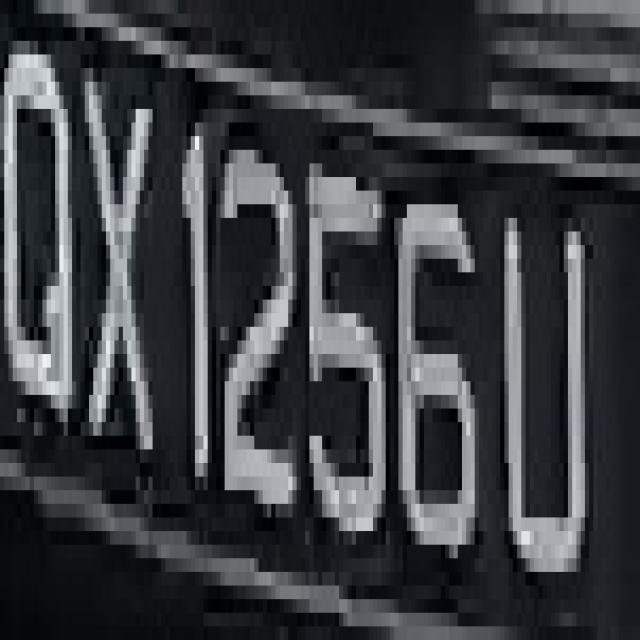1: (178, 54, 216, 504)
2: (220, 109, 297, 585)
5: (301, 122, 394, 544)
6: (403, 136, 479, 613)
Q: (4, 28, 81, 450)
U: (487, 136, 602, 572)
X: (80, 27, 157, 531)
